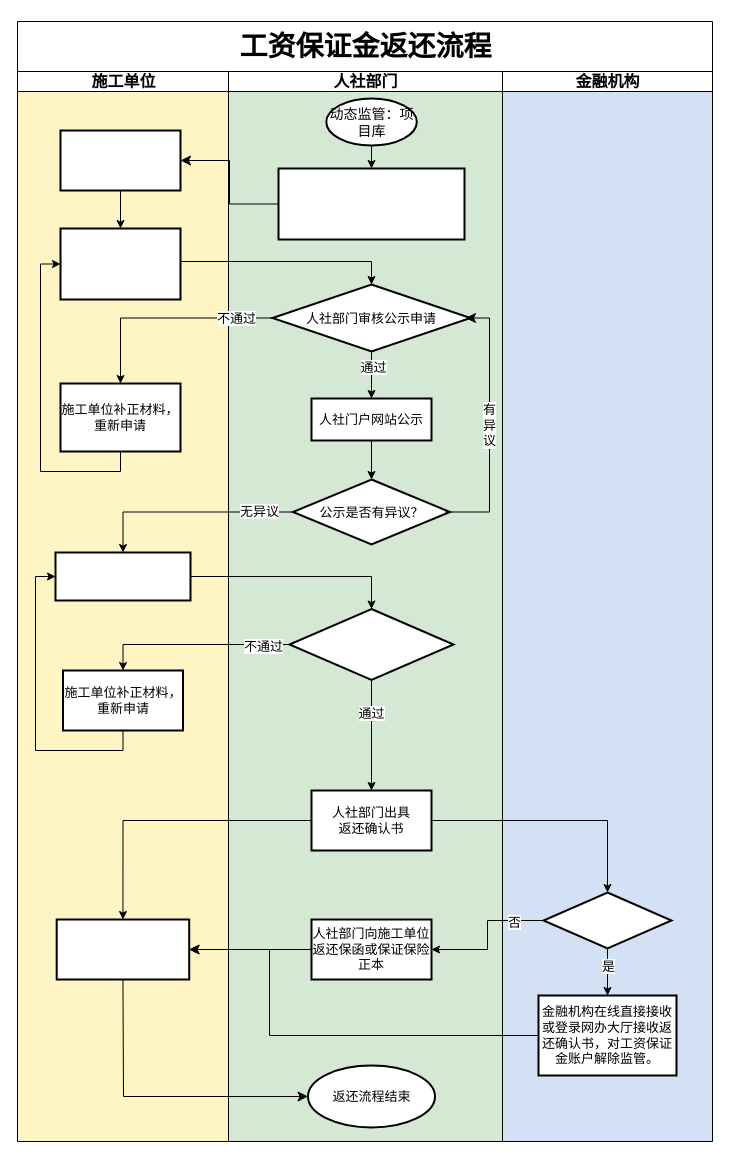
The diagram is 730 pixels wide and 1159 high, and some of its shapes have lost their labels. Each missing label, with the box of its shape:
人社部门审核返还申请: (288, 608, 454, 680)
人社部门对工程项目实施动态监管，获取到项目状态变更信息， 发现工程完工， 面向施工单位发出工资保证金返还提醒。: (277, 167, 465, 240)
施工单位在网办大厅上传工资结清证明和书面承诺，发起公示申请: (59, 227, 181, 300)
施工单位接收返还确认书，确认返还结果。: (55, 918, 190, 980)
施工单位提交相关材料，发起返还申请: (54, 551, 191, 601)
施工单位登录网办大厅接收返还提醒或自主发起返还流程。: (59, 129, 181, 191)
是否现金存储？: (542, 891, 672, 949)
